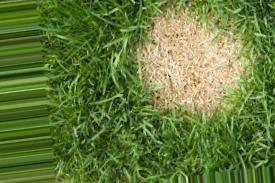patch: (157, 29, 202, 102), (173, 41, 225, 93)
